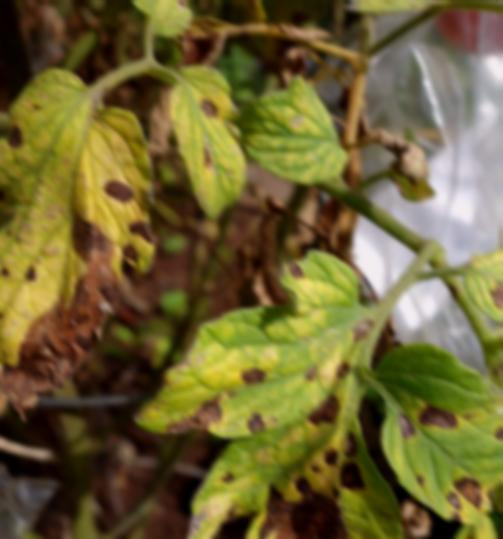Tomato leaf bacterial spot: (0, 44, 153, 437), (135, 253, 386, 440), (367, 340, 503, 525), (162, 63, 250, 213), (241, 75, 352, 182)
